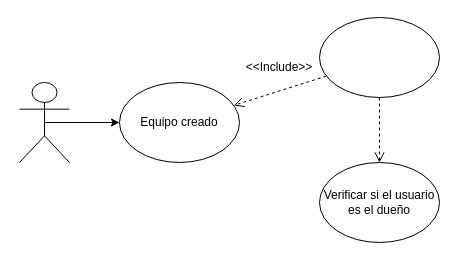
The diagram is 457 pixels wide and 260 high, and some of its shapes have lost their labels. The shapes that lost their labels are listed below. From the top down, each one's centre as x and y in pixels, then its label:
At (x=379, y=57): "Eliminar equipo creado".
At (x=44, y=122): "USUARIO".
